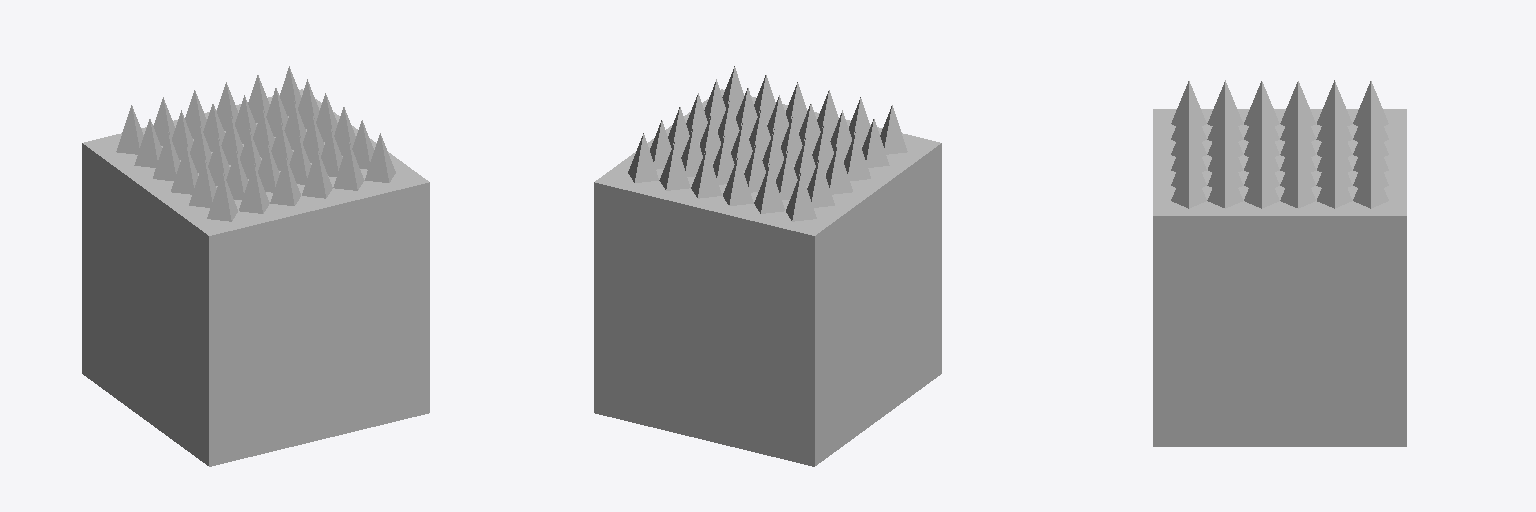
Rendered from spike.obj.
The picture shows the model from 3 angles: view 1: azimuth 30°, elevation 25°; view 2: azimuth 150°, elevation 25°; view 3: azimuth 270°, elevation 25°; orthographic projection.
Bounding box in the file's own units: 9.55 × 11.38 × 9.55.